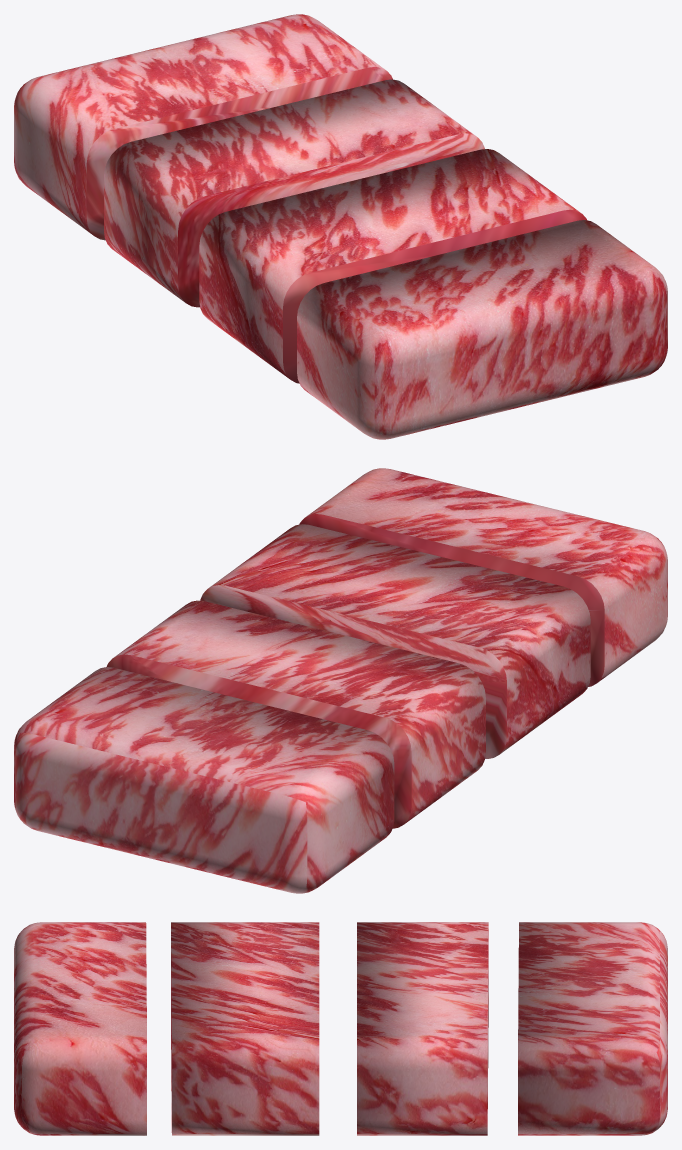
File: MeatCut02.fbx
3 renders of one model, top to bottom at view 1: azimuth 30°, elevation 25°; view 2: azimuth 150°, elevation 25°; view 3: azimuth 270°, elevation 25°, orthographic. The views are drawn at different scales.
Visible parts, largest first — view 1: pCube5.002, pCube5.001, pCube5, pCube5.003; view 2: pCube5.003, pCube5.001, pCube5, pCube5.002; view 3: pCube5.001, pCube5.003, pCube5, pCube5.002.
Part boxes in pixels (x1,y1,x2,y2): pCube5.002: [297, 220, 667, 439]; pCube5.001: [199, 149, 586, 383]; pCube5: [104, 79, 484, 307]; pCube5.003: [14, 14, 392, 240]; pCube5.003: [14, 667, 394, 893]; pCube5.001: [200, 524, 590, 758]; pCube5: [106, 600, 485, 828]; pCube5.002: [299, 468, 667, 686]; pCube5.001: [171, 922, 319, 1135]; pCube5.003: [518, 922, 667, 1135]; pCube5: [357, 922, 488, 1135]; pCube5.002: [14, 922, 146, 1135].
Bounding box in the file's own units: 3.54 × 1.21 × 7.34.
